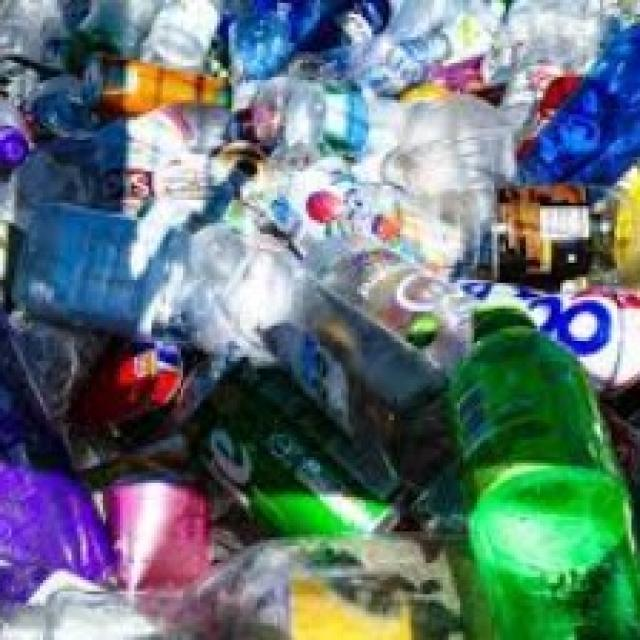heap: (25, 1, 587, 582)
metel: (184, 363, 394, 556)
plastic_bottle: (433, 297, 640, 640), (9, 193, 231, 357), (143, 1, 238, 79)
